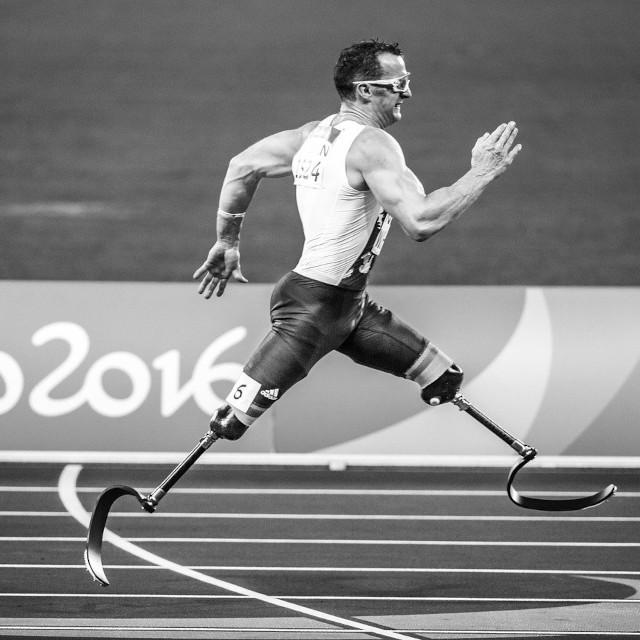mezczyzna: (187, 22, 539, 517)
